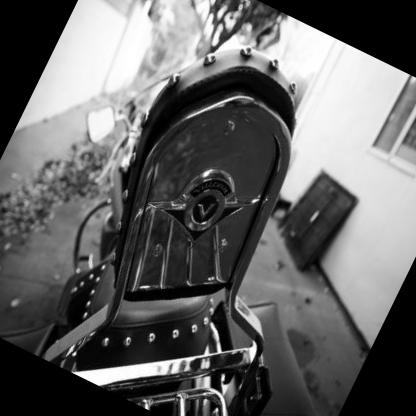moto: (4, 27, 406, 416)
